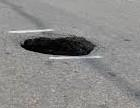crack: (18, 32, 97, 57)
